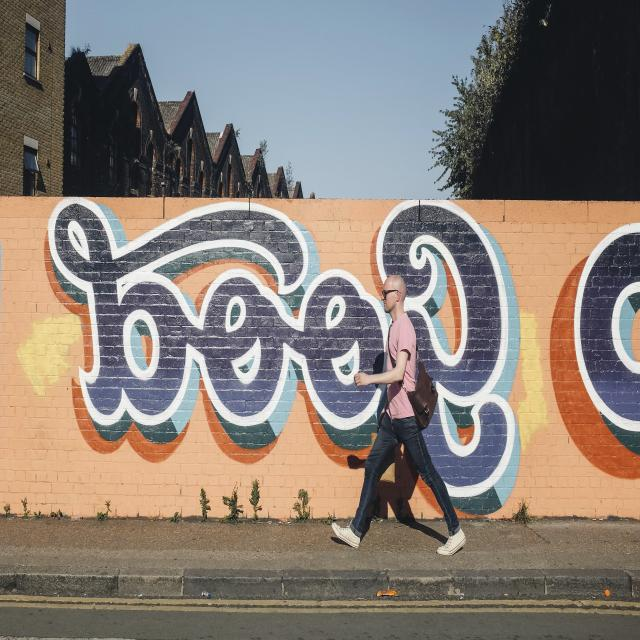adult: (330, 274, 466, 558)
